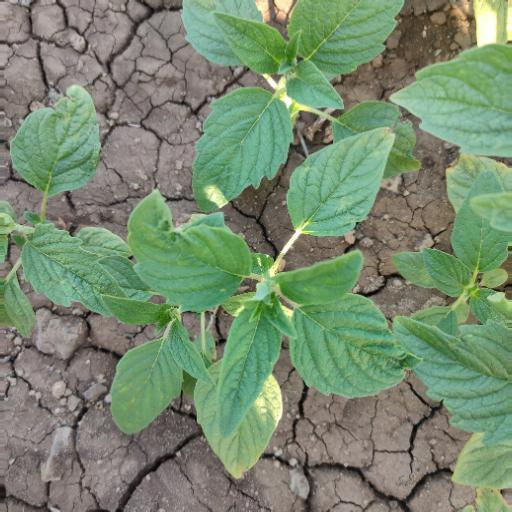crop: (107, 213, 413, 475), (173, 2, 422, 207), (1, 77, 161, 380)
